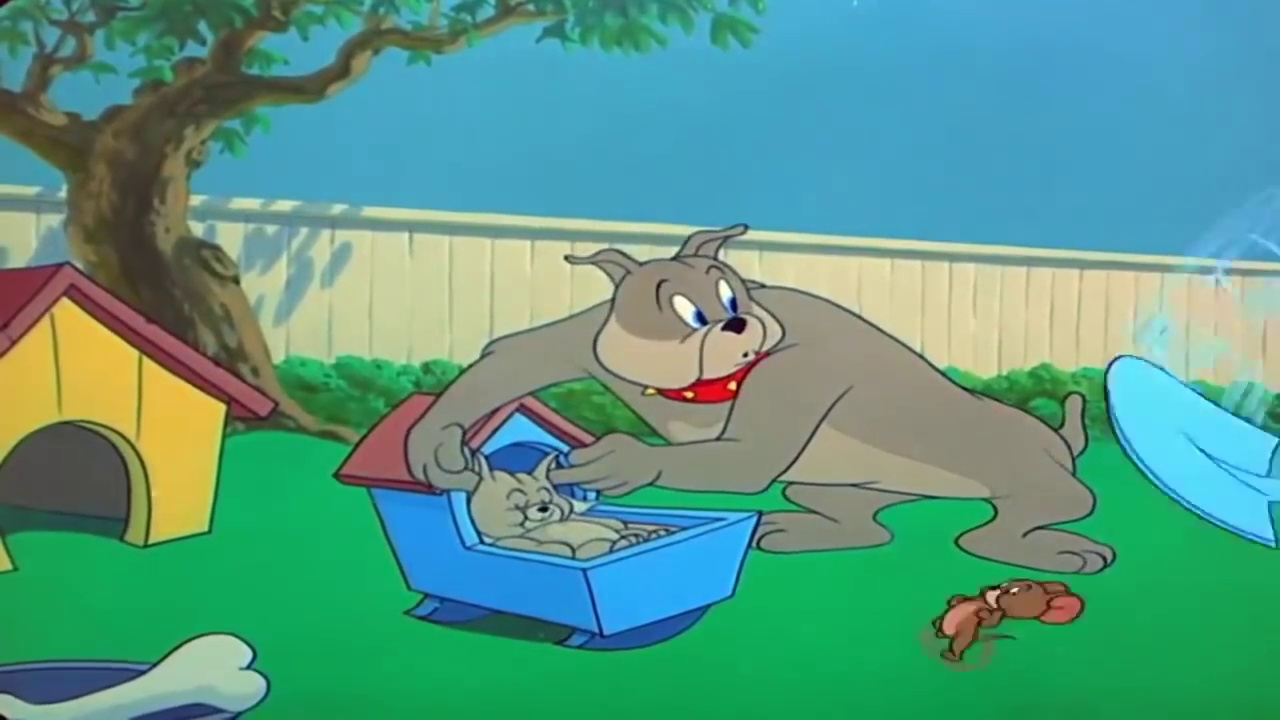spike: (562, 219, 789, 413)
